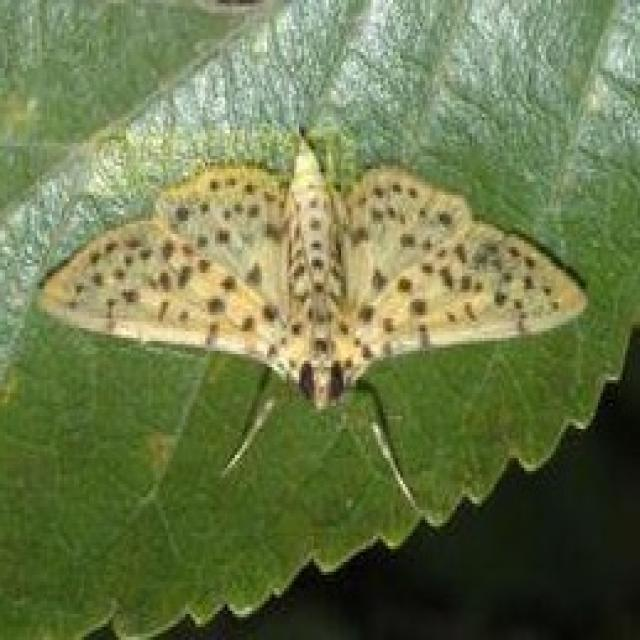peach borer: (27, 121, 588, 427)
